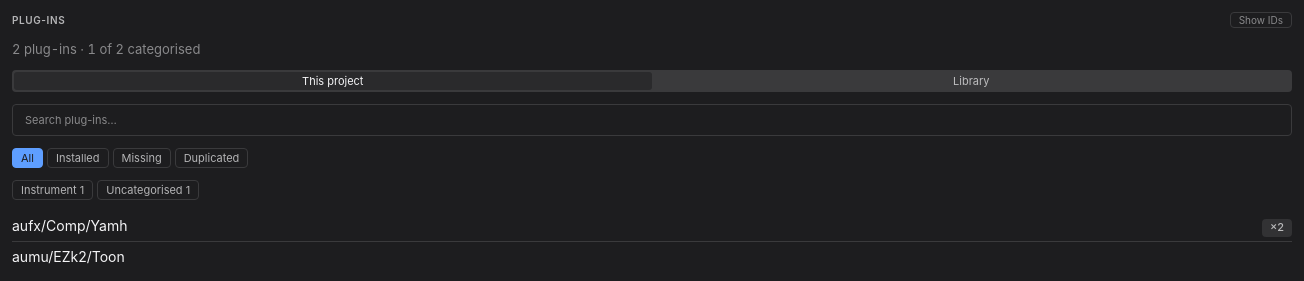
Test: <PluginRail /> › 'Duplicated' chip narrows to fingerprints with count >= 2
Click the button "Duplicated" at (211, 158), box [175,148,248,168]
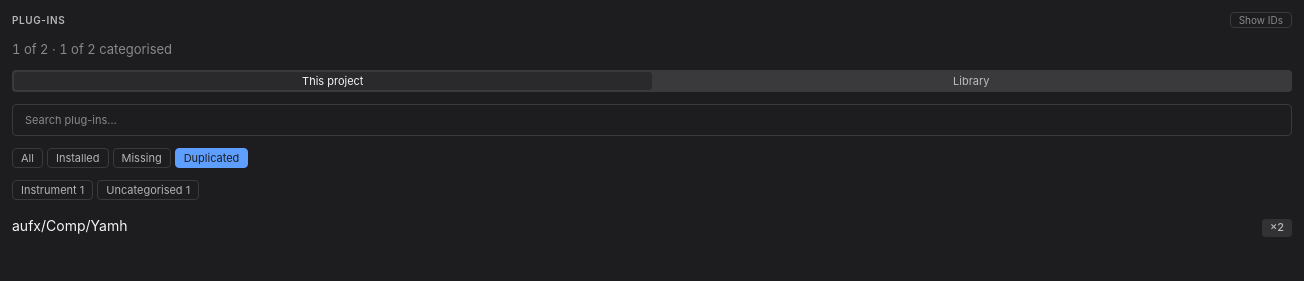
Expected: the button "aufx/Comp/Yamh" is shown, [12,216,1254,236]
Expected: the button "aumu/EZk2/Toon" is gone
